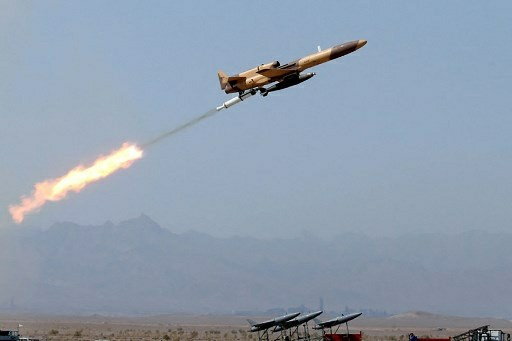maybay_khongnguoilai: (209, 38, 367, 98)
